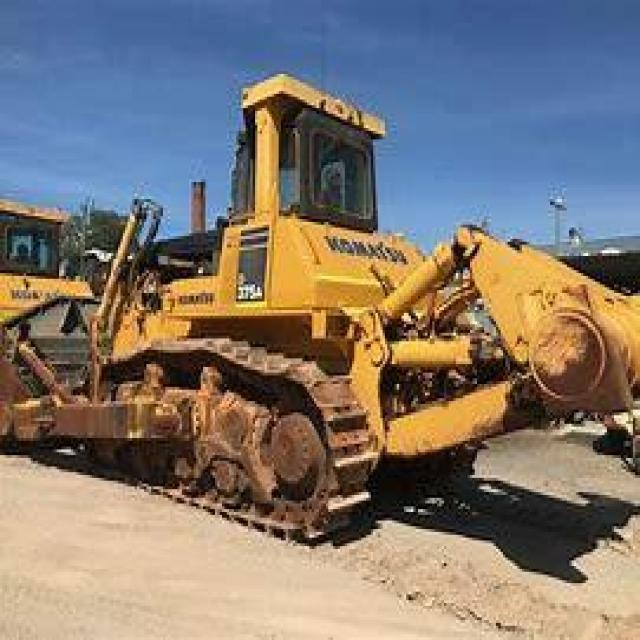Bulldozer: (2, 65, 638, 538)
